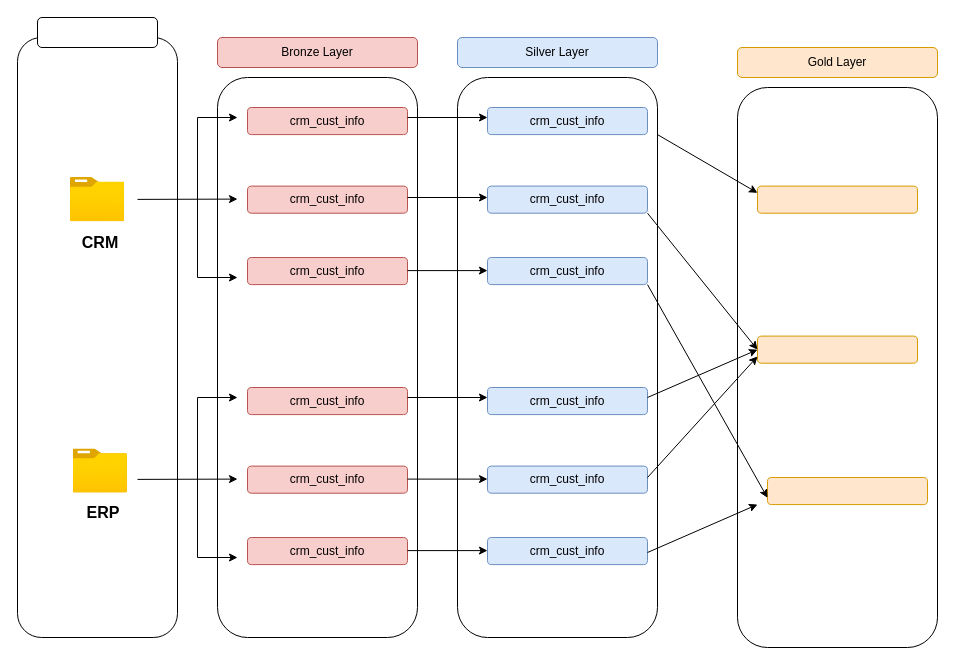
The diagram is 955 pixels wide and 665 high, and some of its shapes have lost their labels. Each missing label, with the box of its shape:
dim_customers: (756, 335, 918, 363)
dim_products: (766, 476, 928, 505)
fact_sales: (756, 185, 918, 213)
Sources: (36, 16, 158, 48)
